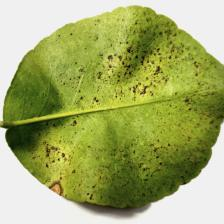canker: (107, 38, 183, 90)
